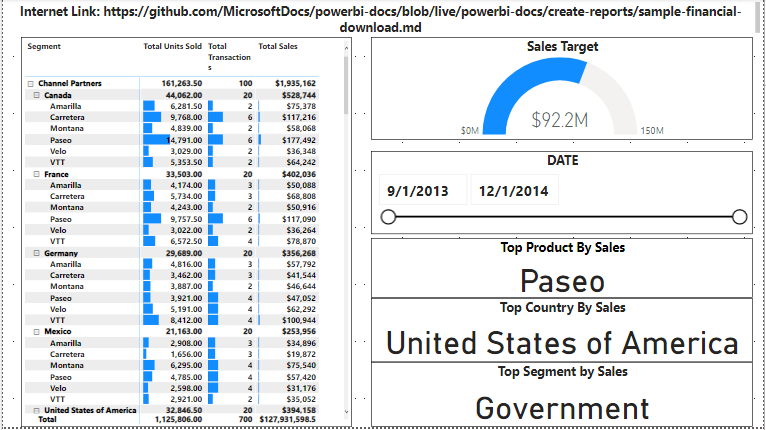

What the dashboard file says about the page in this screenshot:
{"tool":"powerbi","page":{"name":"SALES","canvas":[1280,720],"ordinal":3},"visuals":[{"type":"pivotTable","fields":{"Rows":["financials.Segment","financials.Country","financials.Product"],"Values":["Key Measures.Total Units Sold","Key Measures.Total Transactions","Key Measures.Total Sales"]},"box":[30.3,64,557.5,656.8],"z":0},{"type":"gauge","title":"Sales Target","fields":{"Y":["Key Measures.Total Sales"],"MaxValue":["Key Measures.Sales Target"]},"box":[619.8,64,643.4,173.5],"z":1000},{"type":"slicer","title":"DATE","fields":{"Values":["financials.Date"]},"box":[619.8,256,643.4,139.8],"z":2000},{"type":"card","title":"Top Segment by Sales","fields":{"Values":["Min(financials.Segment)"]},"box":[619.8,611.4,643.4,109.5],"z":3000},{"type":"card","title":"Top Country By Sales","fields":{"Values":["Min(financials.Country)"]},"box":[619.8,503.6,643.4,107.8],"z":4000},{"type":"card","title":"Top Product By Sales","fields":{"Values":["Min(financials.Product)"]},"box":[619.8,402.5,643.4,101.1],"z":5000},{"type":"textbox","box":[0,0,1280,64],"z":6000}]}

Visuals, with their boxes on the page's 1280x720 design canvas (x1, y1, x2, y2). These are canvas units, not pixel positions in the 766x430 screenshot, which may show the page scaled, cropped or inside an application window:
pivotTable - financials.Segment x financials.Country: (left=30, top=64, right=588, bottom=721)
"Sales Target" gauge: (left=620, top=64, right=1263, bottom=238)
"DATE" slicer: (left=620, top=256, right=1263, bottom=396)
"Top Segment by Sales" card: (left=620, top=611, right=1263, bottom=721)
"Top Country By Sales" card: (left=620, top=504, right=1263, bottom=611)
"Top Product By Sales" card: (left=620, top=402, right=1263, bottom=504)
textbox: (left=0, top=0, right=1280, bottom=64)
